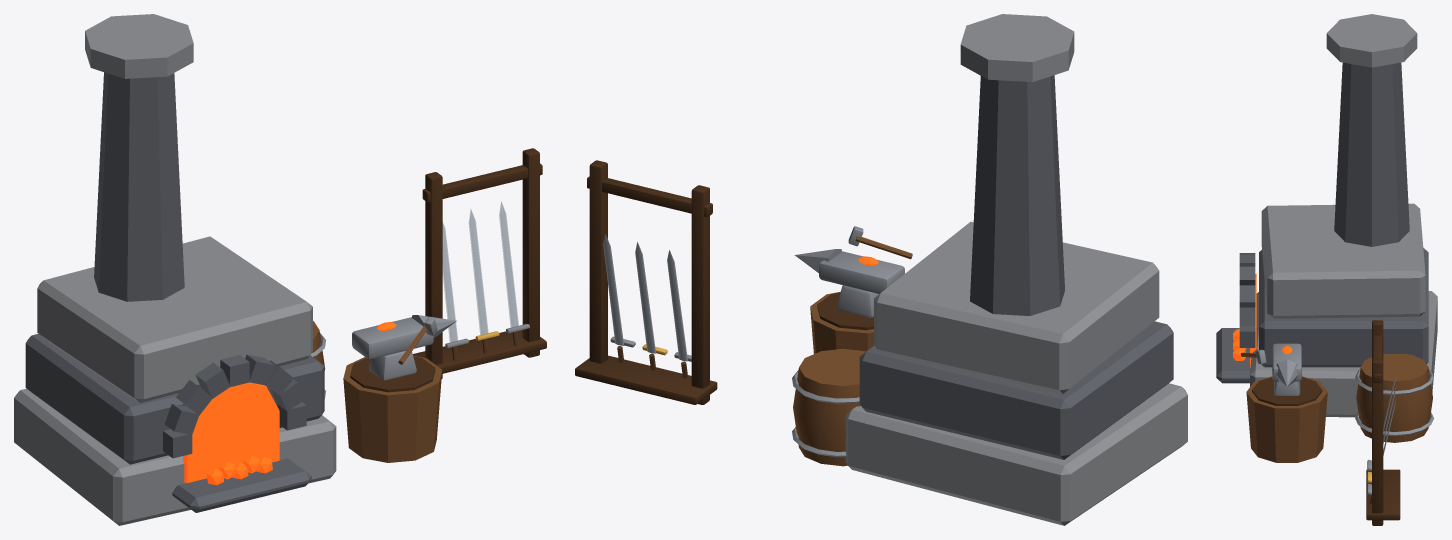
Rendered from forge.glb.
3 views of the same model, side by side, from view 1: azimuth 30°, elevation 25°; view 2: azimuth 150°, elevation 25°; view 3: azimuth 270°, elevation 25° (orthographic). The views are drawn at different scales.
Parts seen in each view (by area): view 1: forge; view 2: forge; view 3: forge.
Boxes of the visible parts, box(x1,y1,x2,y2) form: forge: box(14, 14, 546, 525); forge: box(575, 14, 1187, 525); forge: box(1216, 14, 1437, 525).
Size of the model in its own units: 4.1 by 3.28 by 1.95.
